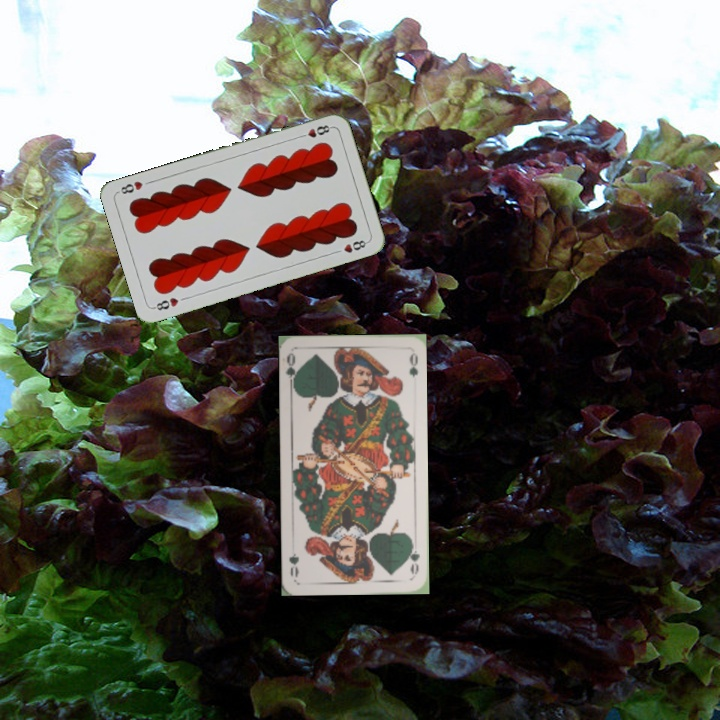GO: (282, 350, 301, 391), (405, 537, 422, 577)
H8: (294, 121, 334, 141), (150, 293, 181, 313)
